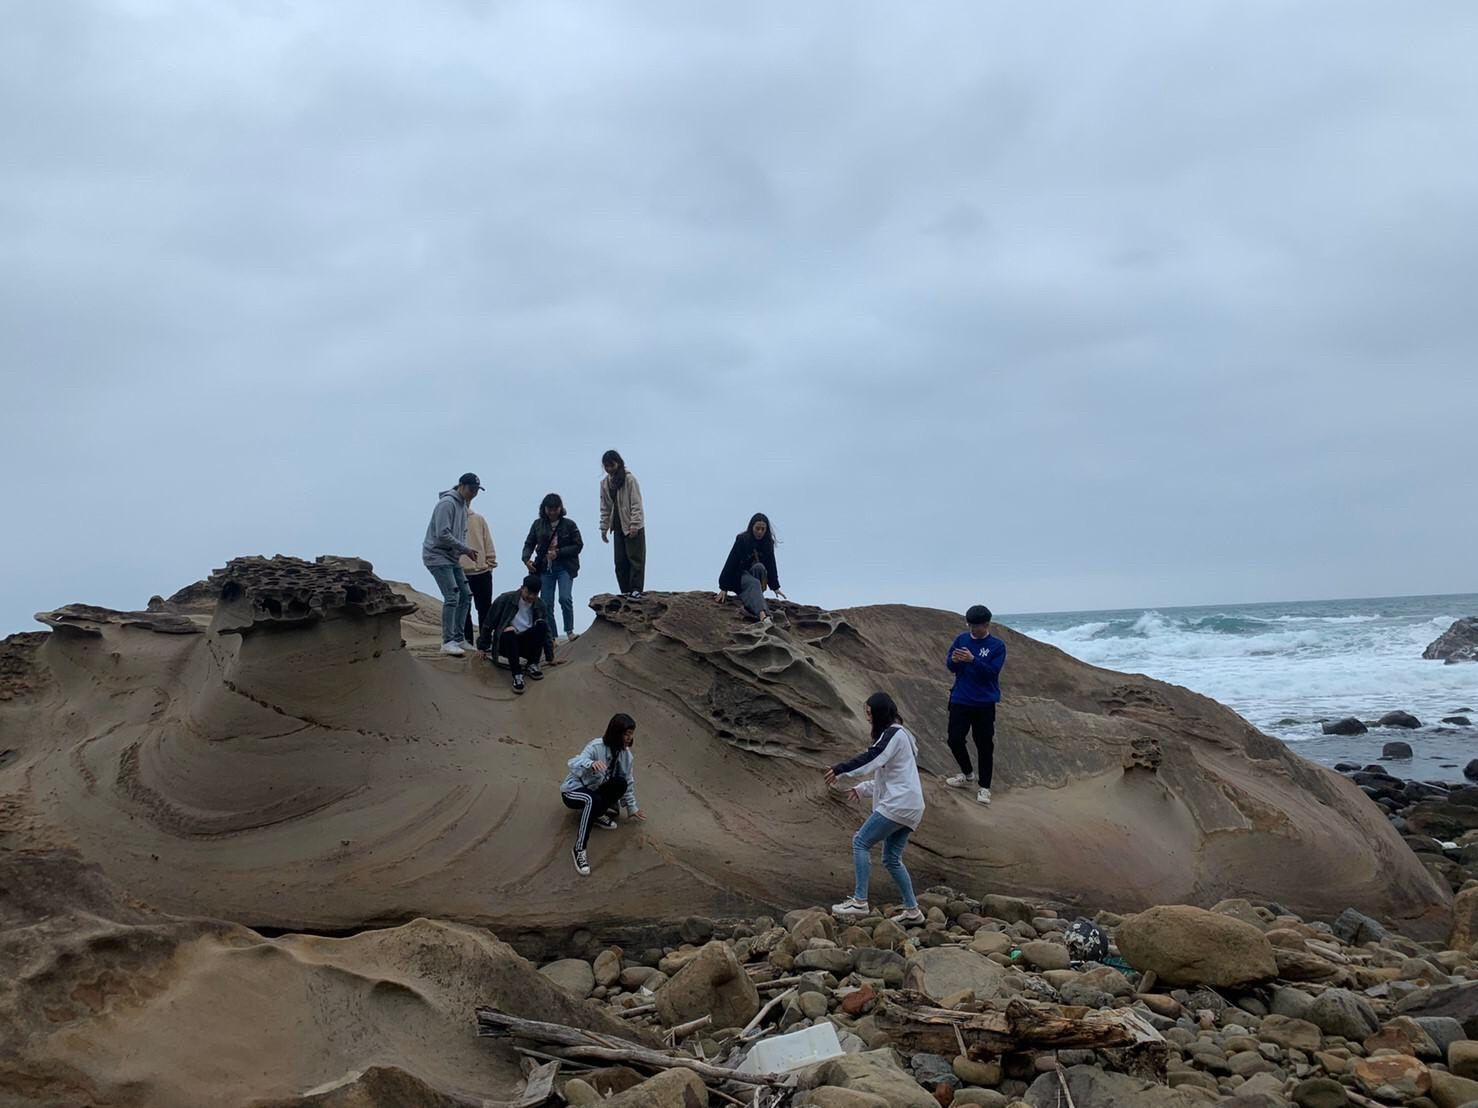people: (848, 700, 921, 919), (421, 467, 477, 657), (948, 609, 1002, 807), (565, 713, 633, 863), (592, 457, 658, 602), (527, 494, 590, 640), (494, 575, 550, 684), (727, 517, 779, 619)
